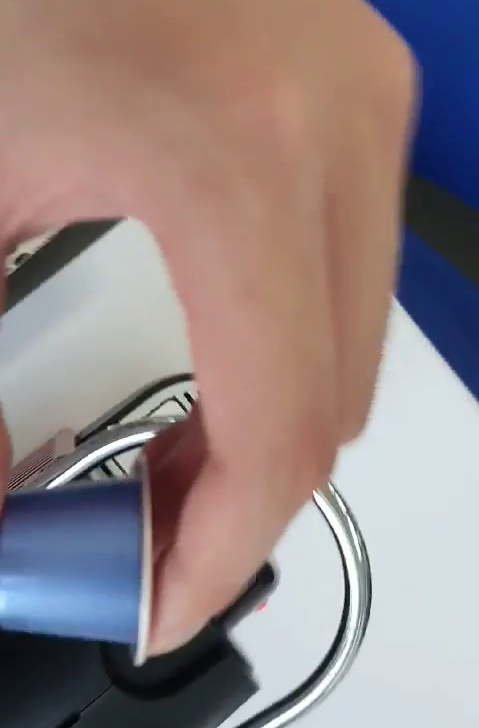capsule_7: (1, 453, 157, 668)
